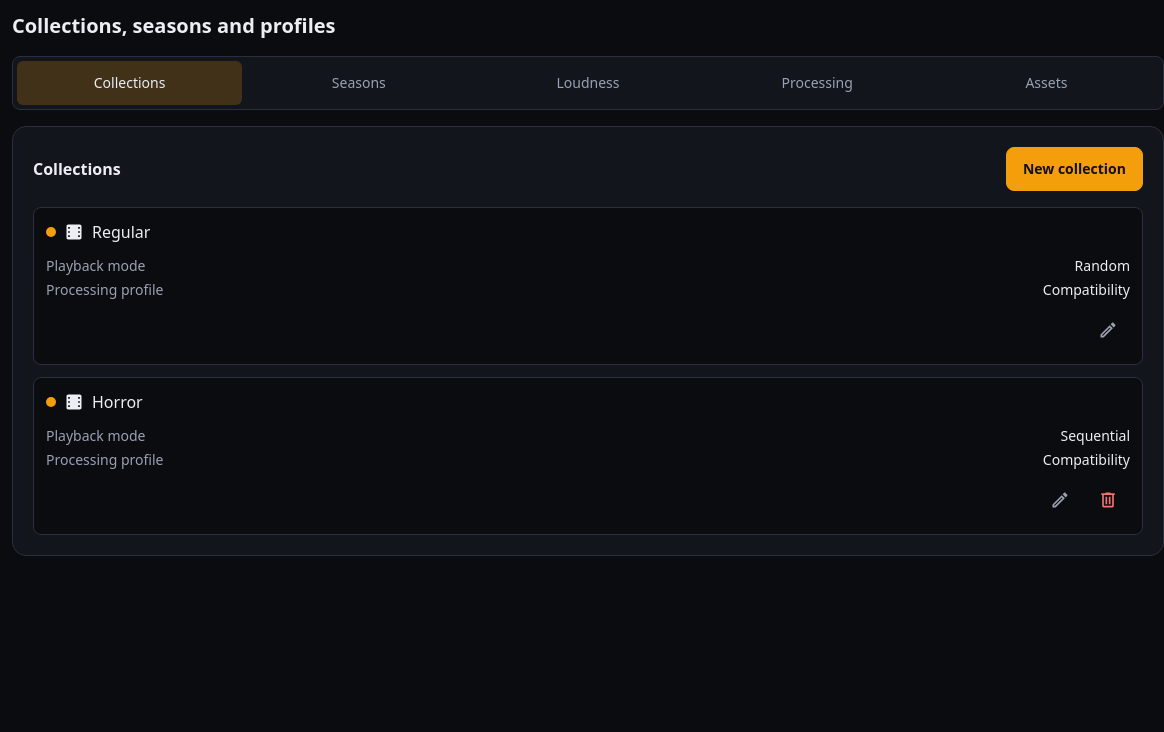
shows the collection each season plays
This screenshot has width=1164, height=732.
Click the tab with id "organize-tab-seasons".
click(359, 83)  # box [246, 61, 471, 105]
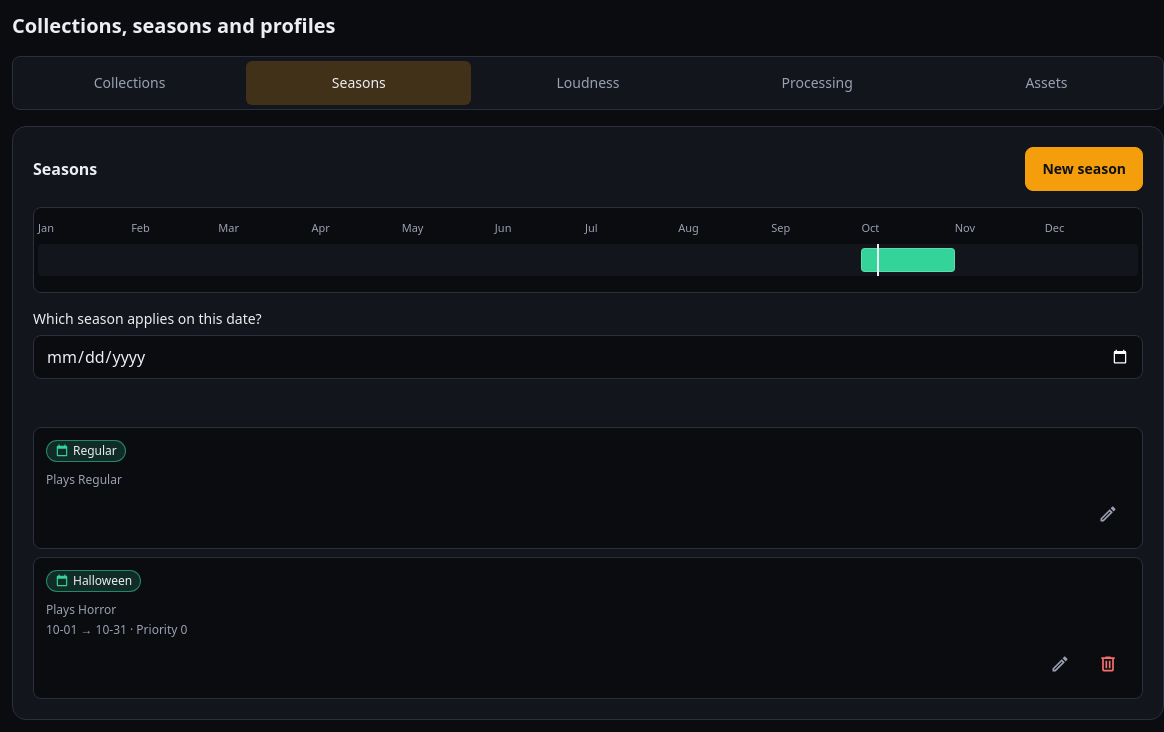
Now the list item "Halloween Plays Horror 10-01 → 10-31 · Priority 0" is shown, box [33, 557, 1143, 699]
